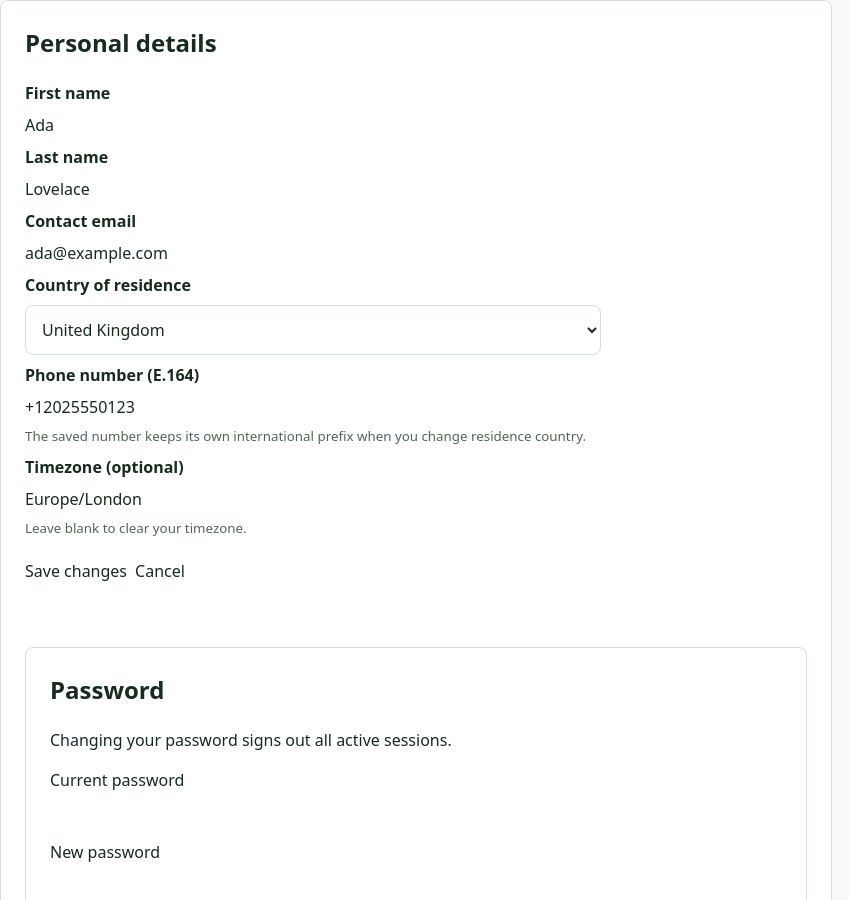
Test case: account form › maps native account validation to its exact field
Replace the text in the field with id "account-email" with "invalid" at (313, 253), box [25,241,601,265]
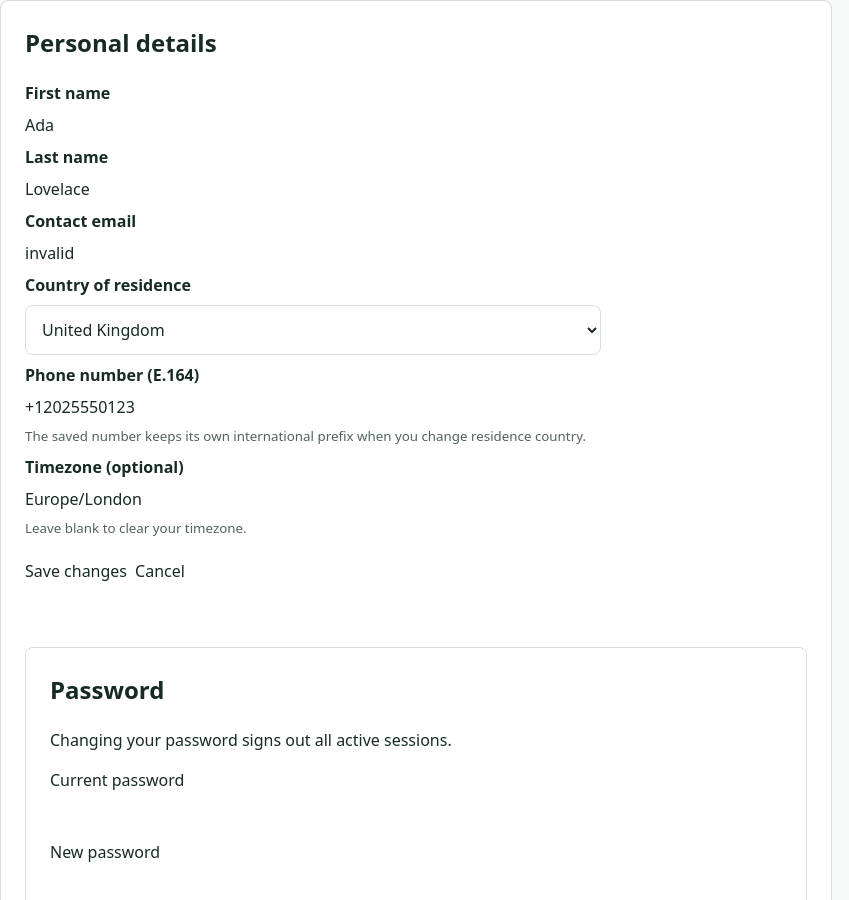
Submit the form that starts with "First name", box [25,81,601,583]
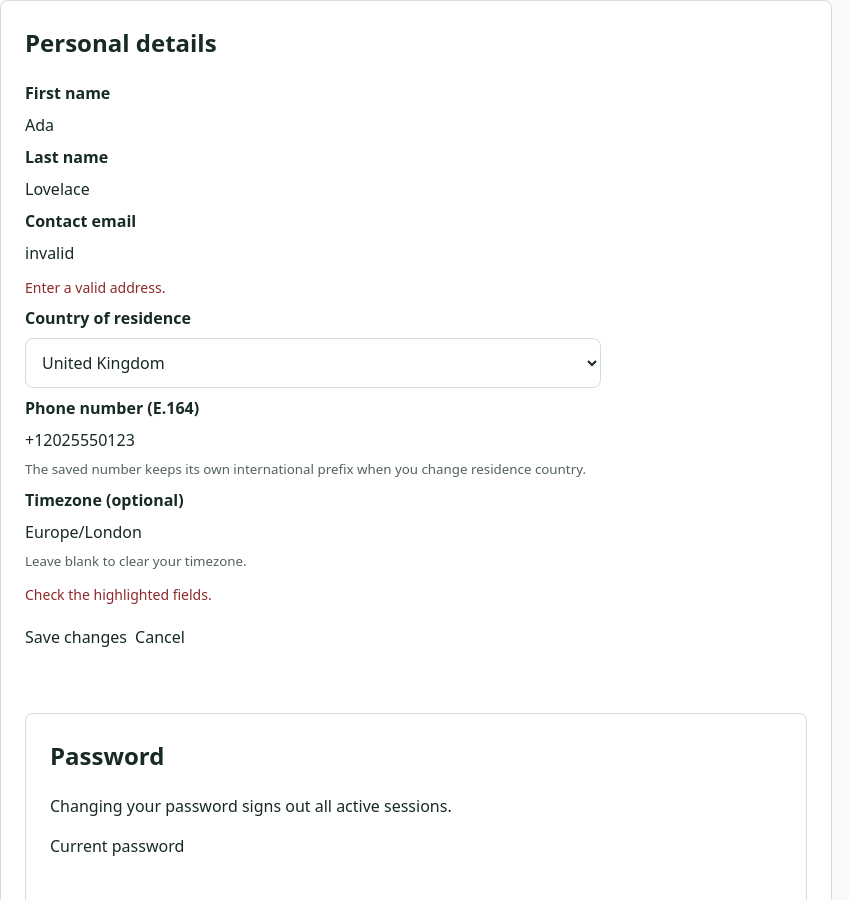
Check: the text "Enter a valid address." is shown, box [25,278,165,297]
